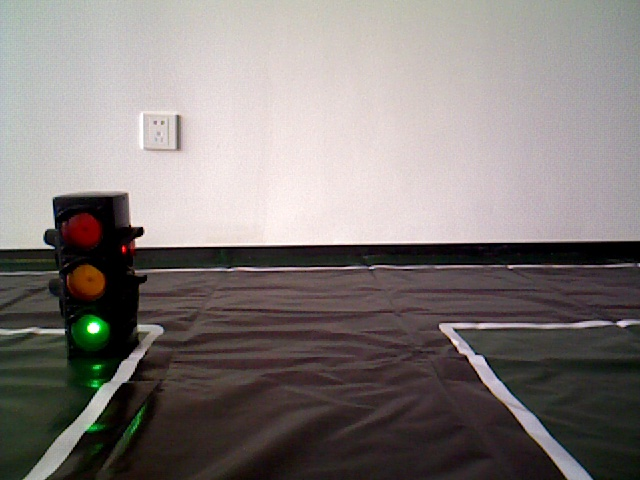green: (56, 198, 136, 348)
